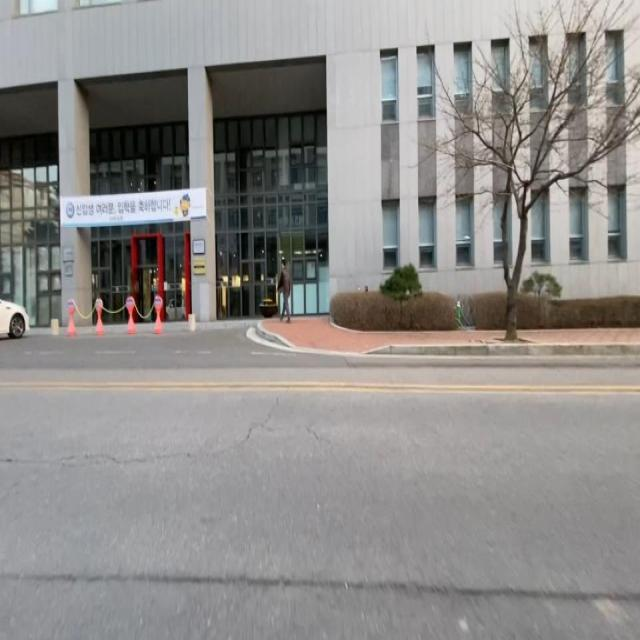sidewalk: (259, 316, 508, 354), (518, 329, 640, 344)
